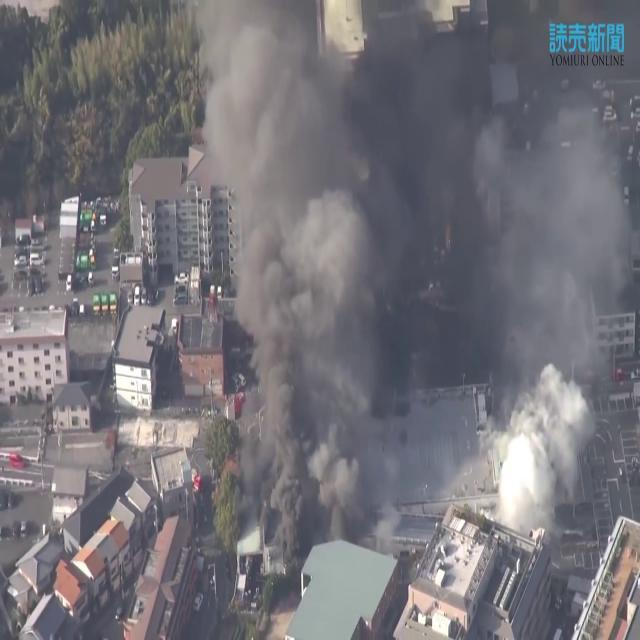Smoke: (205, 0, 631, 554), (492, 355, 590, 518)
